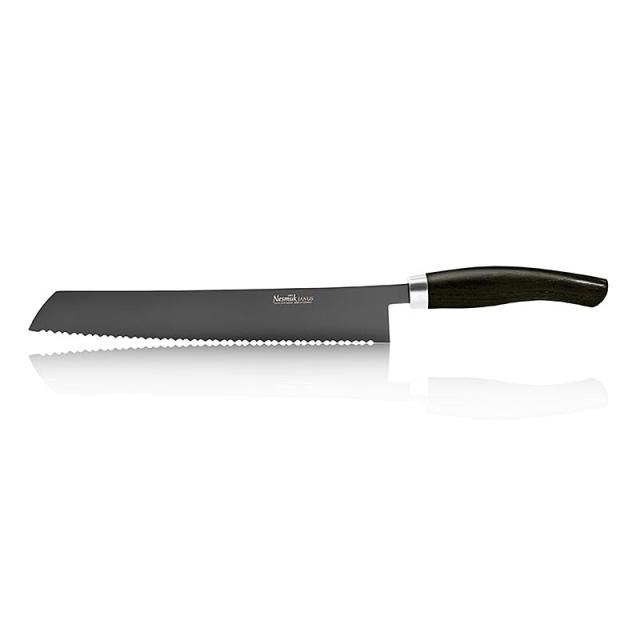Knife: (30, 266, 607, 346)
